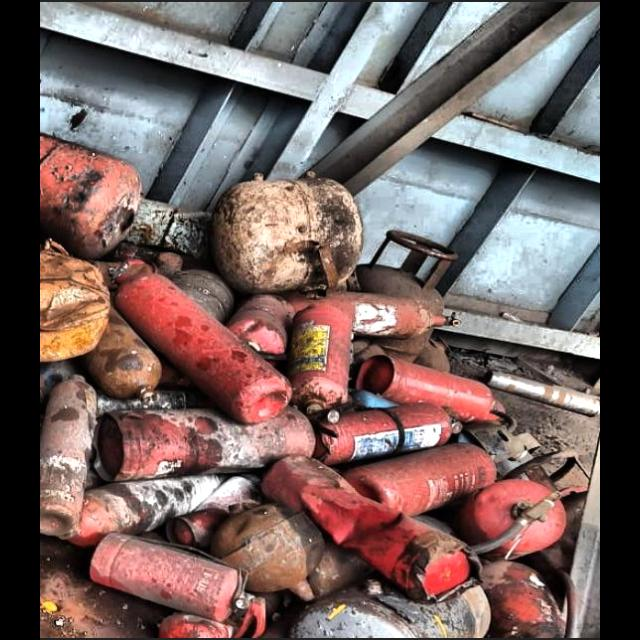Cylinders: (217, 175, 373, 292)
